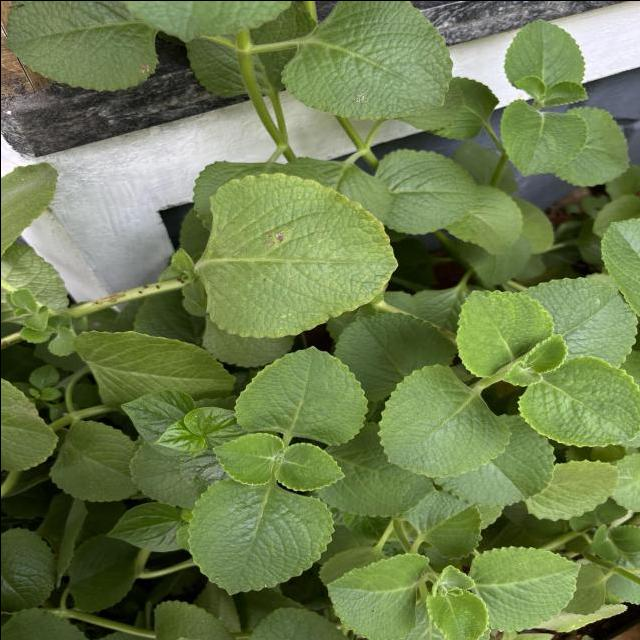Plectranthus barbatus: (195, 170, 398, 338), (278, 0, 454, 122), (186, 476, 334, 596), (374, 362, 512, 478), (4, 0, 160, 93), (232, 343, 370, 447), (71, 328, 237, 402), (514, 354, 640, 448), (332, 310, 457, 403), (516, 276, 638, 368), (467, 544, 582, 632), (324, 551, 429, 640), (373, 147, 478, 236), (453, 288, 553, 378), (47, 418, 145, 502), (497, 96, 588, 178), (524, 456, 620, 522), (502, 17, 585, 91), (441, 182, 523, 255), (400, 489, 482, 560), (560, 105, 630, 186), (0, 525, 57, 612), (210, 430, 284, 486), (273, 441, 345, 492), (423, 589, 490, 640), (522, 332, 568, 372)
